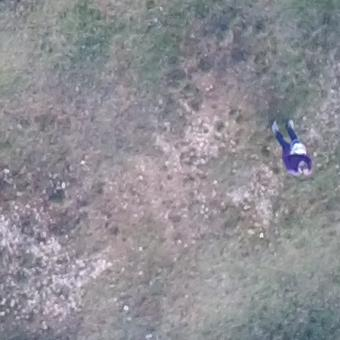human: (271, 119, 314, 177)
